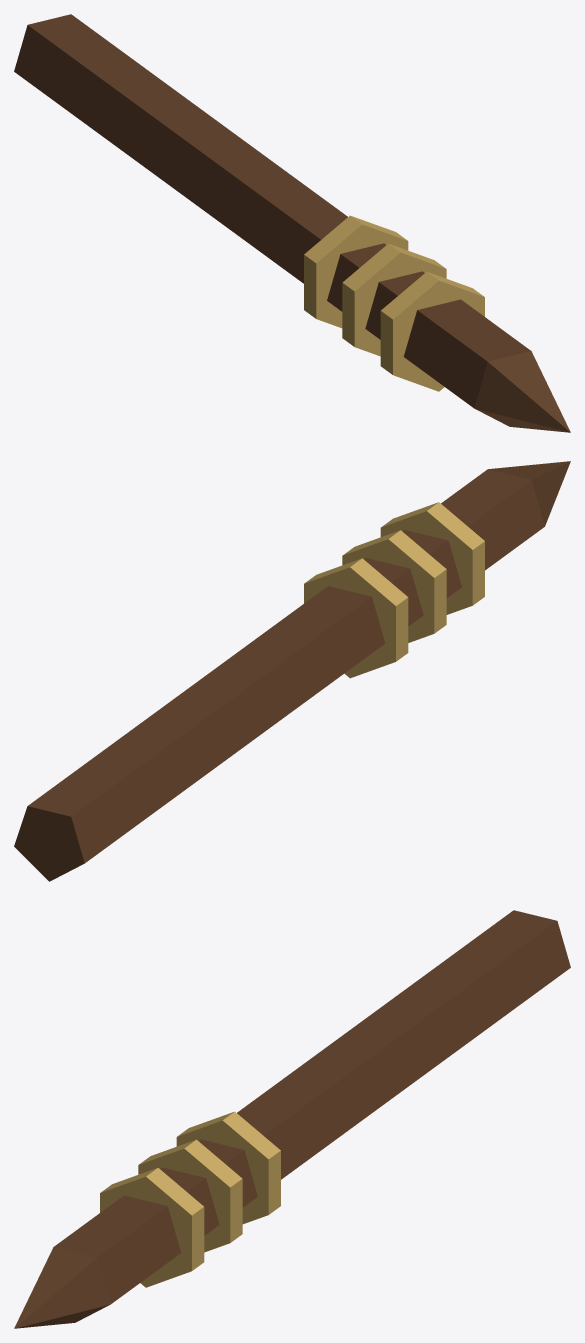
The model's file is corner_stake.obj.
The picture shows the model from 3 angles, top to bottom: view 1: azimuth 30°, elevation 25°; view 2: azimuth 150°, elevation 25°; view 3: azimuth 330°, elevation 25°; orthographic projection.
Visible parts, largest first — view 1: corner_stake; view 2: corner_stake; view 3: corner_stake.
Part boxes in pixels (box(x1,y1,x2,y2)): corner_stake: box(14, 14, 570, 432); corner_stake: box(14, 461, 570, 881); corner_stake: box(14, 910, 570, 1328).
Bounding box in the file's own units: 0.0346 × 0.04 × 0.34.
